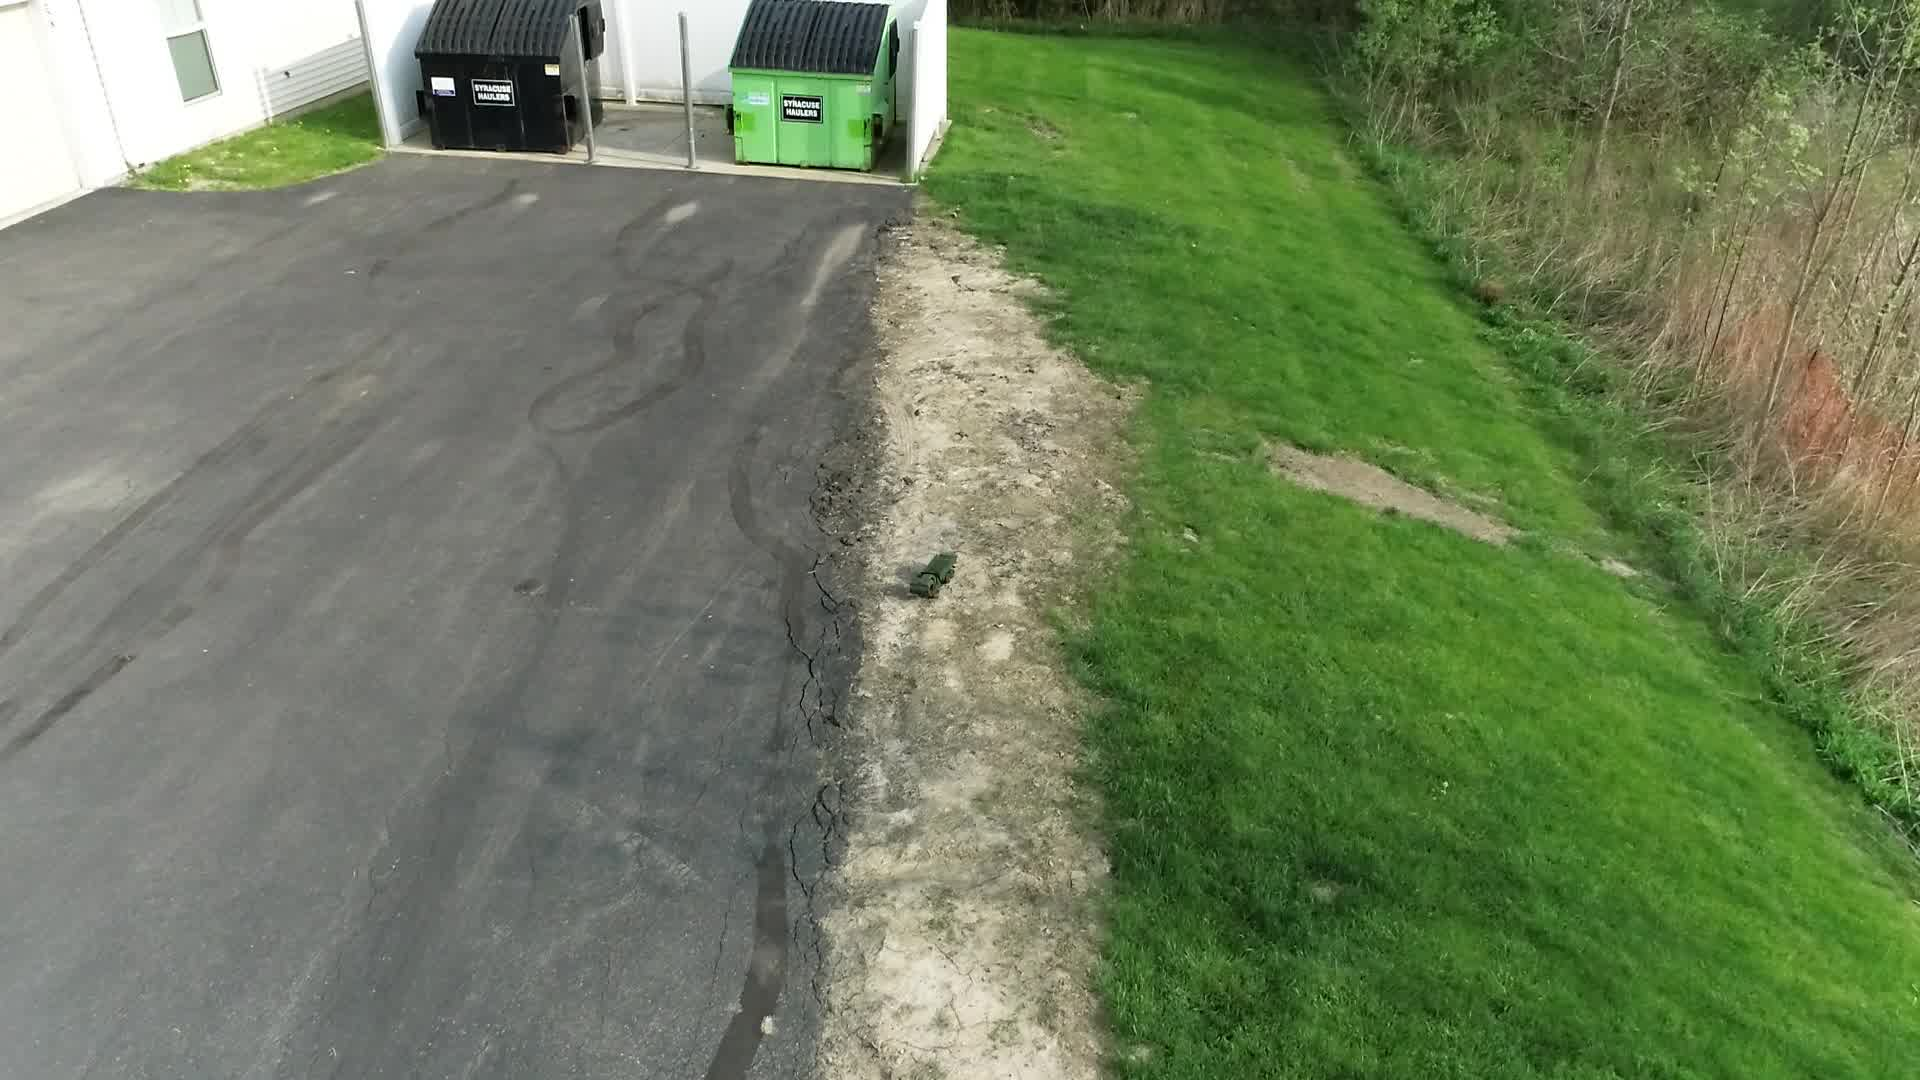transporter9: (907, 547, 961, 600)
